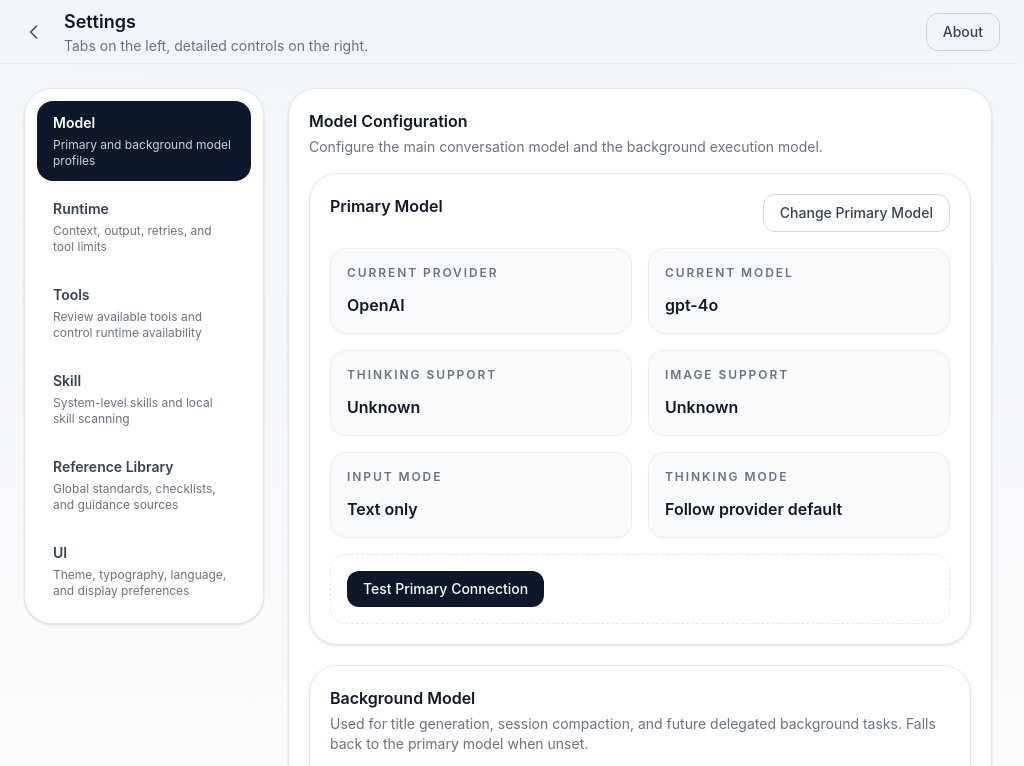
Test: SettingsPage › shows runtime guardrail warnings when effective values exceed the selected role model window
Click the button "Runtime Context, output, retries, and tool limits" at (144, 227), box [37,187,251,267]
(page scrolled)
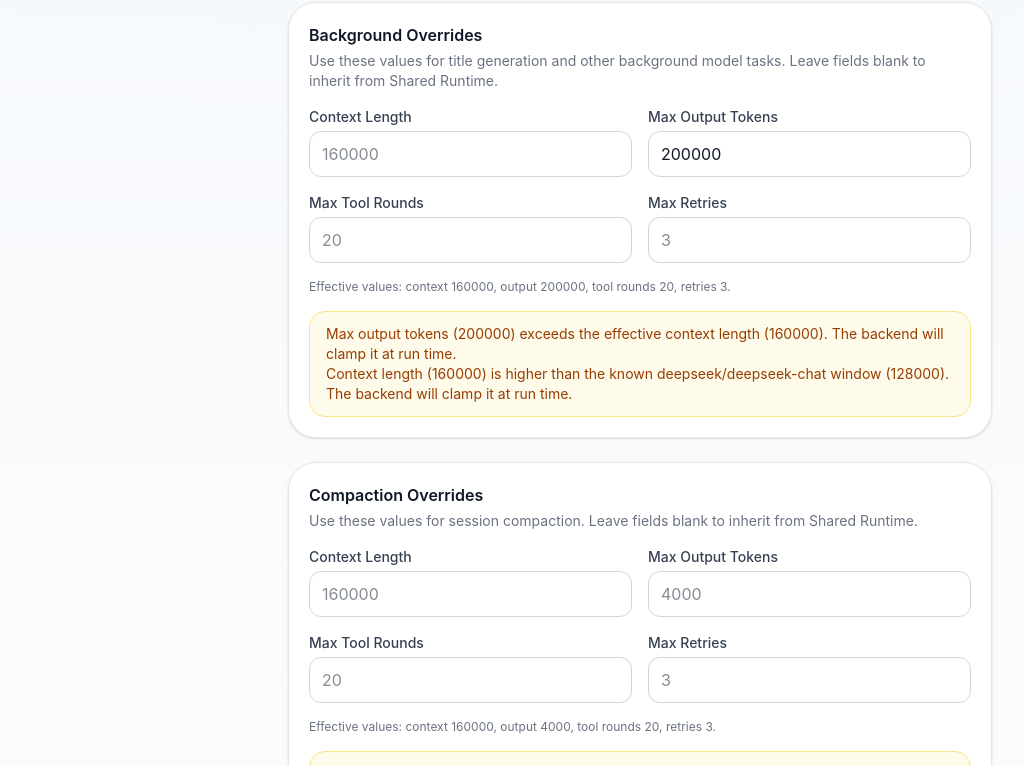
Result: the text "Max output tokens (200000) exceeds the effective context length (160000)" is shown at [326,325,944,362]
Result: the text "Context length (160000) is higher than the known deepseek/deepseek-chat window (128000)" below "Background Overrides" is shown at [326,365,949,402]
